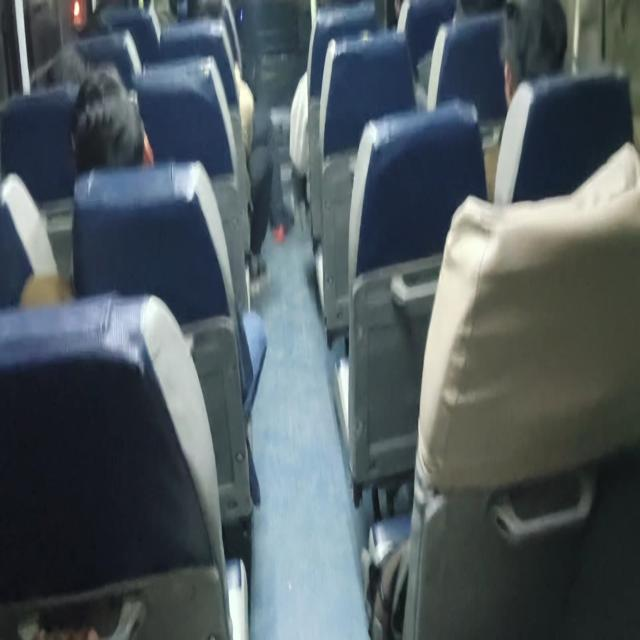person: (77, 68, 174, 176), (495, 0, 571, 99), (22, 36, 93, 76)
